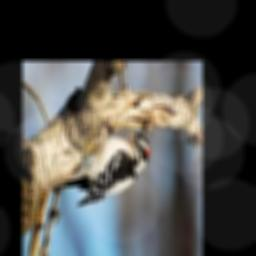Woodpecker: (53, 127, 149, 206)
